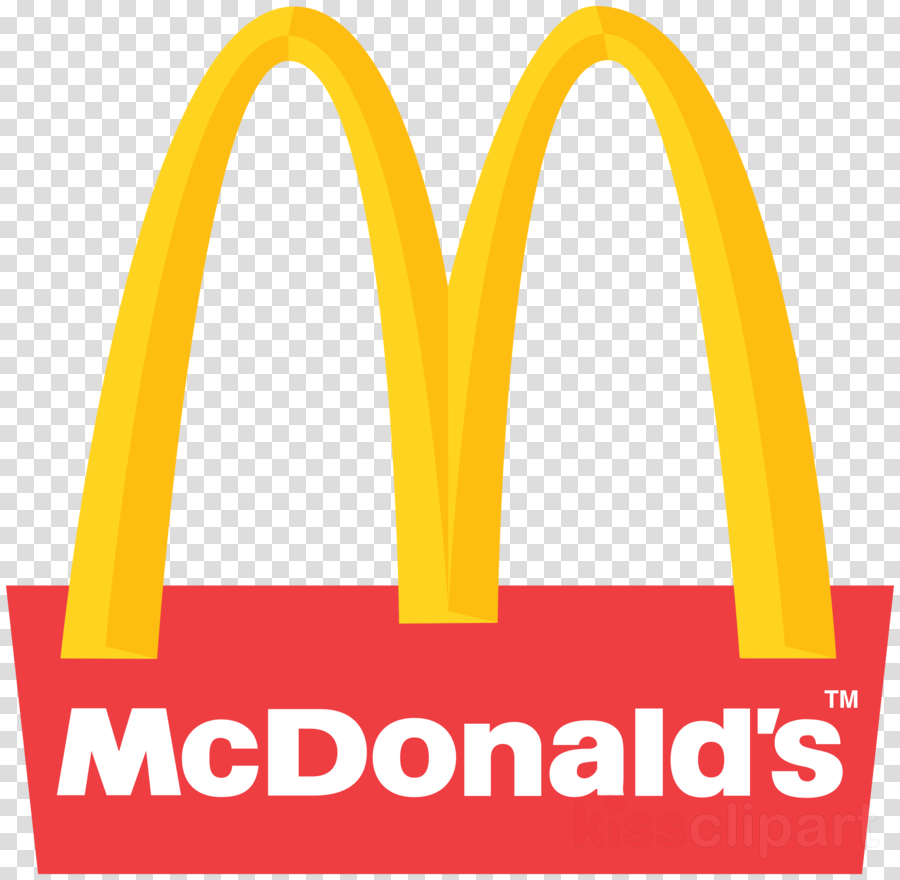mcdonalds: (56, 0, 837, 662)
